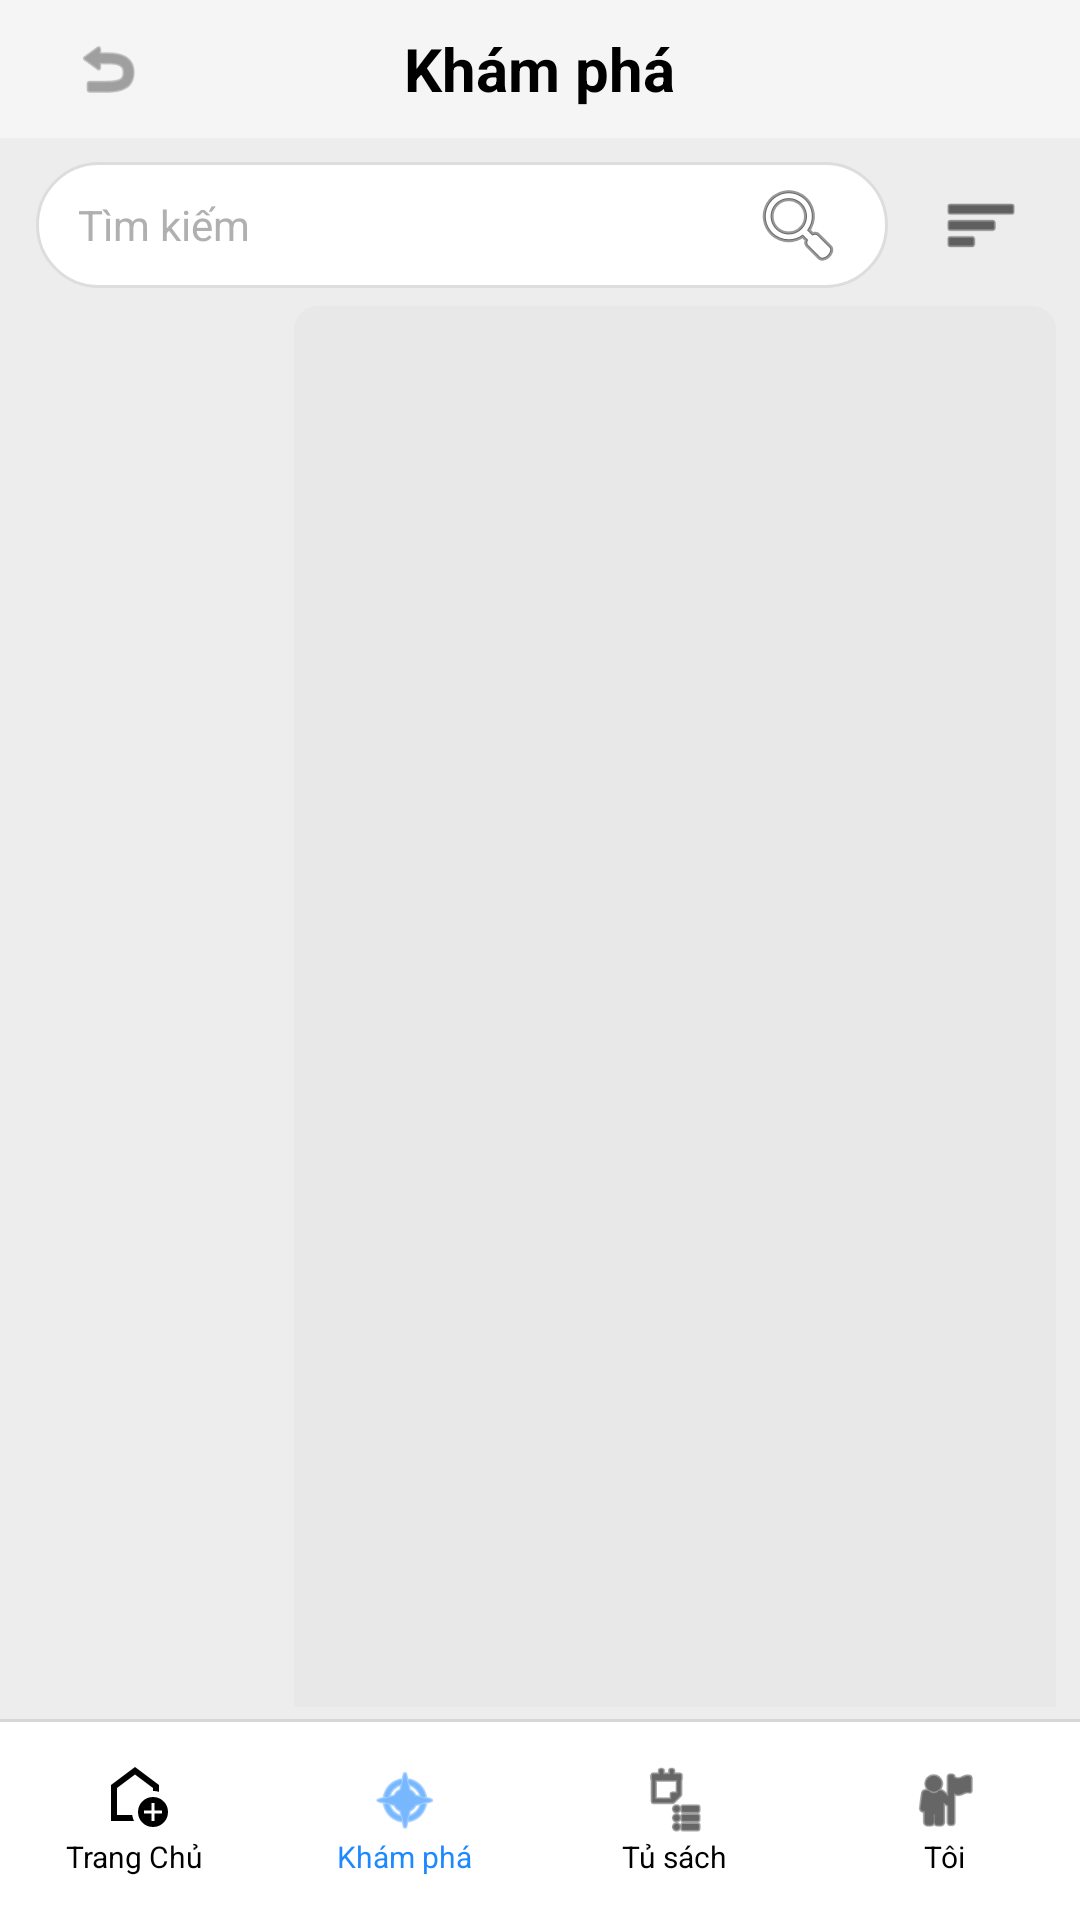

Named icons in this screenshot (1080w x 1920h) and their centers, (x,y):
agenda: (675,1800)
revert: (109,69)
sort by size: (981,225)
